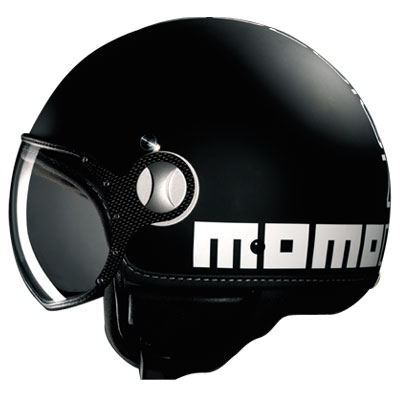helmet: (29, 28, 397, 311)
